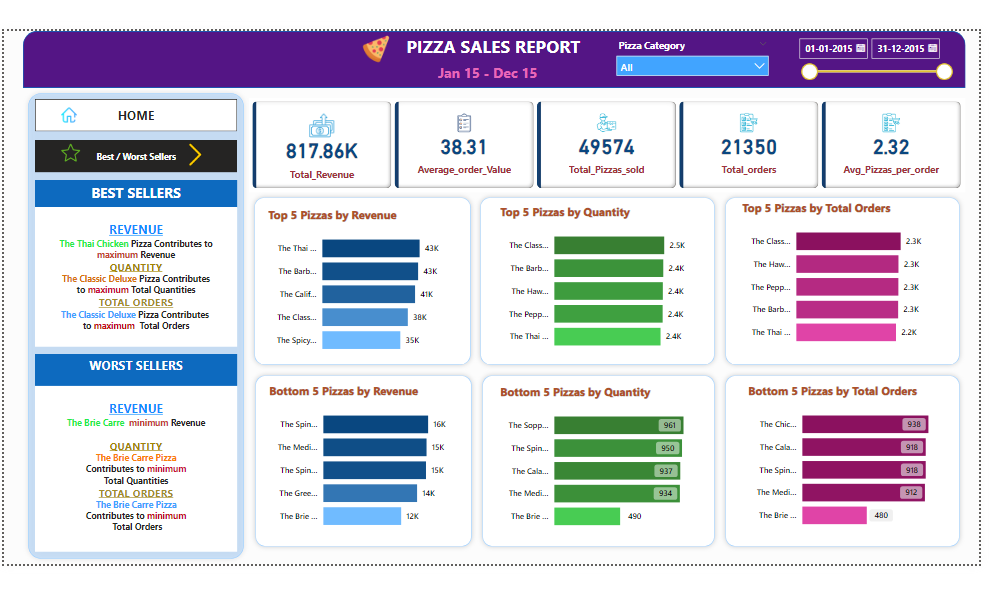

The page's visual inventory and layout, read from the dashboard file:
{"tool":"powerbi","page":{"name":"Best / Worst Sellers","canvas":[1500,820],"ordinal":1},"visuals":[{"type":"shape","box":[29.2,87.7,347.7,732.3],"z":0},{"type":"cardVisual","fields":{"Data":["pizza_sales.Total_Revenue","pizza_sales.Average_order_Value","pizza_sales.Total_Pizzas_sold","pizza_sales.Total_orders","pizza_sales.Avg_Pizzas_per_order"]},"box":[376.8,103.6,1101.8,144.6],"z":1000},{"type":"shape","box":[28.6,0,1450,87.5],"z":2000},{"type":"textbox","box":[553.6,0,398.2,57.1],"z":3000},{"type":"textbox","box":[626.8,44.6,235.7,42.9],"z":4000},{"type":"image","box":[532.1,1.8,78.6,51.8],"z":5000},{"type":"shape","box":[376.9,247.7,349.2,273.8],"z":6000},{"type":"textbox","box":[47.7,229.2,310.8,41.5],"z":7000},{"type":"textbox","box":[47.7,270.8,310.8,215.4],"z":8000},{"type":"textbox","box":[47.7,496.9,310.8,49.2],"z":9000},{"type":"textbox","box":[47.7,546.2,310.8,255.4],"z":10000},{"type":"slicer","fields":{"Values":["pizza_sales.pizza_category"]},"box":[932.3,6.2,253.8,76.9],"z":11000},{"type":"slicer","fields":{"Values":["pizza_sales.order_date"]},"box":[1210.8,1.5,256.9,81.5],"z":12000},{"type":"shape","box":[1101.5,247.7,376.9,273.8],"z":13000},{"type":"shape","box":[724.6,247.7,376.9,273.8],"z":14000},{"type":"shape","box":[378.5,521.5,349.2,280],"z":15000},{"type":"shape","box":[727.7,521.5,373.8,280],"z":16000},{"type":"shape","box":[1101.5,521.5,376.9,280],"z":17000},{"type":"barChart","title":"Top 5 Pizzas by Revenue","fields":{"Category":["pizza_sales.pizza_name"],"Y":["pizza_sales.Total_Revenue"]},"box":[401.5,270.8,300,238.5],"z":18000},{"type":"barChart","title":"Bottom 5 Pizzas by Revenue","fields":{"Category":["pizza_sales.pizza_name"],"Y":["pizza_sales.Total_Revenue"]},"box":[403.1,541.5,300,238.5],"z":19000},{"type":"barChart","title":"Top 5 Pizzas by Quantity","fields":{"Category":["pizza_sales.pizza_name"],"Y":["pizza_sales.Total_Pizzas_sold"]},"box":[758.8,265.9,300,237.6],"z":20000},{"type":"barChart","title":"Bottom 5 Pizzas by Quantity","fields":{"Category":["pizza_sales.pizza_name"],"Y":["pizza_sales.Total_Pizzas_sold"]},"box":[758.6,542.9,300,237.1],"z":21000},{"type":"barChart","title":"Top 5 Pizzas by Total Orders","fields":{"Category":["pizza_sales.pizza_name"],"Y":["pizza_sales.Total_orders"]},"box":[1130,260,300,237.1],"z":22000},{"type":"barChart","title":"Bottom 5 Pizzas by Total Orders","fields":{"Category":["pizza_sales.pizza_name"],"Y":["pizza_sales.Total_orders"]},"box":[1140,541.4,300,237.1],"z":23000},{"type":"pageNavigator","box":[48,104,311,50],"z":24000},{"type":"pageNavigator","box":[48,167,311,50],"z":25000},{"type":"image","box":[267,167,53,45],"z":26000},{"type":"image","box":[83,109,34,39],"z":27000},{"type":"image","box":[83,162,39,50],"z":28000}]}

Visuals, with their boxes on the page's 1500x820 design canvas (x1, y1, x2, y2). These are canvas units, not pixel positions in the 1002x613 screenshot, which may show the page scaled, cropped or inside an application window:
shape: (x1=29, y1=88, x2=377, y2=820)
cardVisual - pizza_sales.Total_Revenue x pizza_sales.Average_order_Value: (x1=377, y1=104, x2=1479, y2=248)
shape: (x1=29, y1=0, x2=1479, y2=88)
textbox: (x1=554, y1=0, x2=952, y2=57)
textbox: (x1=627, y1=45, x2=862, y2=88)
image: (x1=532, y1=2, x2=611, y2=54)
shape: (x1=377, y1=248, x2=726, y2=522)
textbox: (x1=48, y1=229, x2=358, y2=271)
textbox: (x1=48, y1=271, x2=358, y2=486)
textbox: (x1=48, y1=497, x2=358, y2=546)
textbox: (x1=48, y1=546, x2=358, y2=802)
slicer - pizza_sales.pizza_category: (x1=932, y1=6, x2=1186, y2=83)
slicer - pizza_sales.order_date: (x1=1211, y1=2, x2=1468, y2=83)
shape: (x1=1102, y1=248, x2=1478, y2=522)
shape: (x1=725, y1=248, x2=1102, y2=522)
shape: (x1=378, y1=522, x2=728, y2=802)
shape: (x1=728, y1=522, x2=1102, y2=802)
shape: (x1=1102, y1=522, x2=1478, y2=802)
"Top 5 Pizzas by Revenue" barChart: (x1=402, y1=271, x2=702, y2=509)
"Bottom 5 Pizzas by Revenue" barChart: (x1=403, y1=542, x2=703, y2=780)
"Top 5 Pizzas by Quantity" barChart: (x1=759, y1=266, x2=1059, y2=504)
"Bottom 5 Pizzas by Quantity" barChart: (x1=759, y1=543, x2=1059, y2=780)
"Top 5 Pizzas by Total Orders" barChart: (x1=1130, y1=260, x2=1430, y2=497)
"Bottom 5 Pizzas by Total Orders" barChart: (x1=1140, y1=541, x2=1440, y2=778)
pageNavigator: (x1=48, y1=104, x2=359, y2=154)
pageNavigator: (x1=48, y1=167, x2=359, y2=217)
image: (x1=267, y1=167, x2=320, y2=212)
image: (x1=83, y1=109, x2=117, y2=148)
image: (x1=83, y1=162, x2=122, y2=212)
